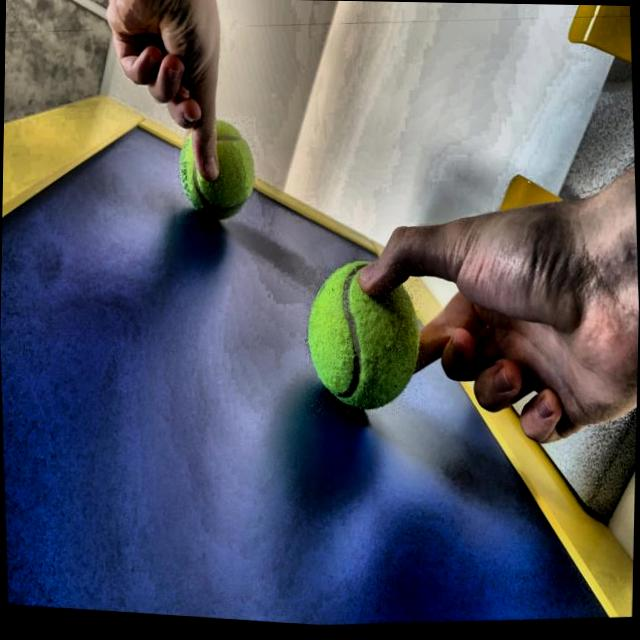Tennis Ball: (299, 257, 430, 428), (170, 115, 260, 234)
